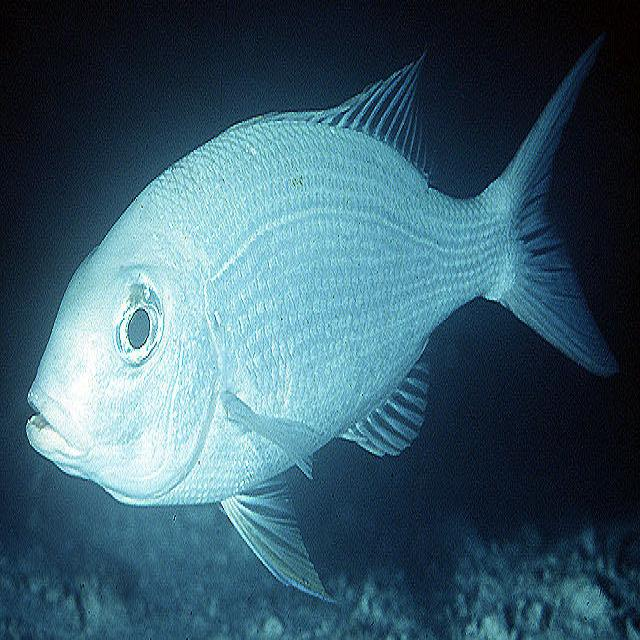ikan: (24, 29, 619, 604)
